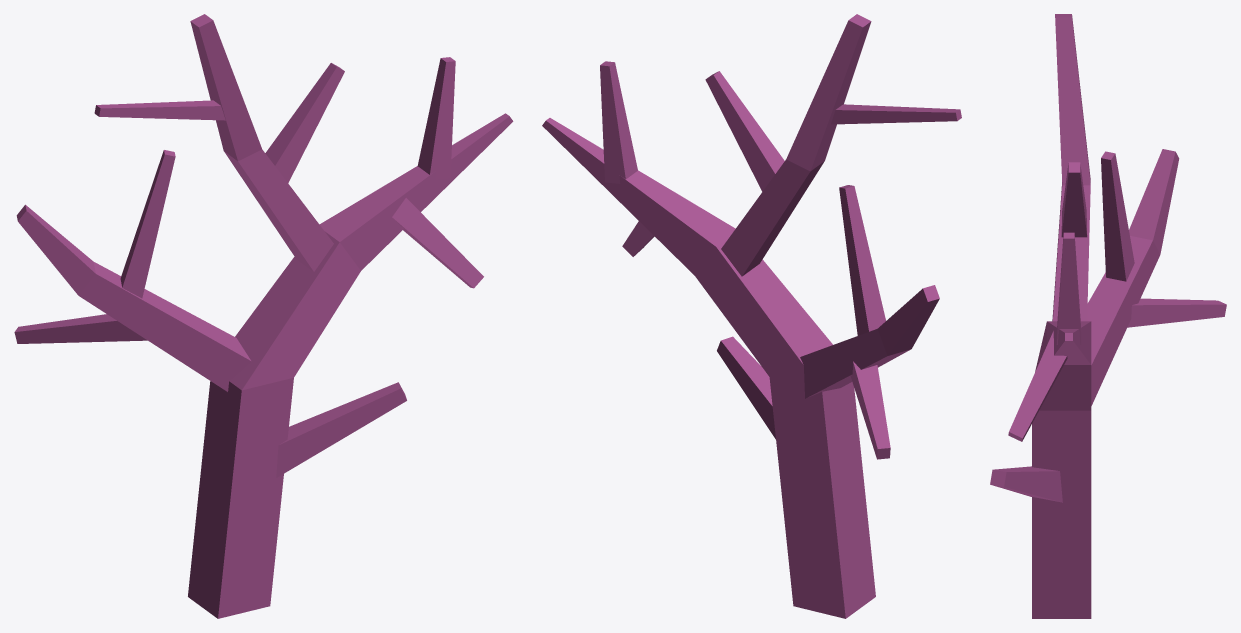
Rendered from Coral1.fbx.
The picture shows the model from 3 angles, left to right: view 1: azimuth 30°, elevation 25°; view 2: azimuth 150°, elevation 25°; view 3: azimuth 270°, elevation 25°; orthographic projection.
Parts seen in each view (by area): view 1: Coral1; view 2: Coral1; view 3: Coral1.
Boxes of the visible parts, <box> form: Coral1: <box>14,14,513,618</box>; Coral1: <box>542,14,961,618</box>; Coral1: <box>990,14,1226,618</box>.
Bounding box in the file's own units: 0.6675 × 0.8446 × 0.3127.
